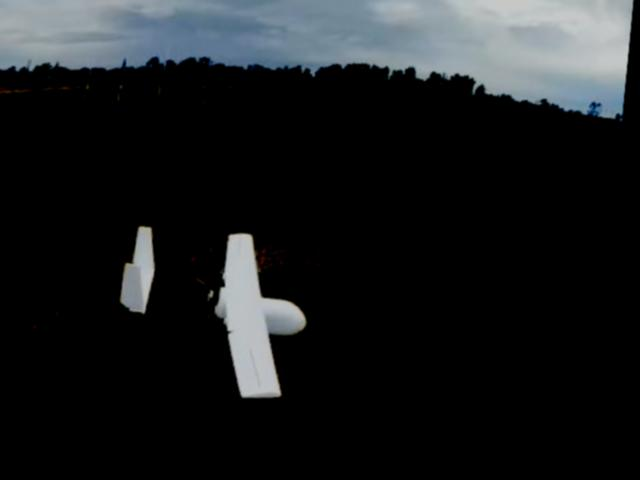uav: (114, 215, 324, 421)
